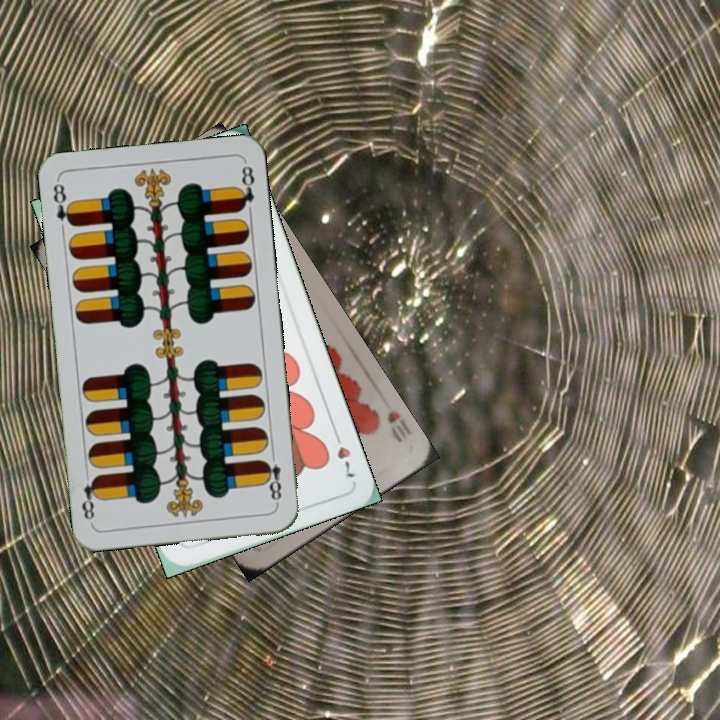E8: (259, 448, 284, 507), (49, 177, 77, 229)
H10: (383, 406, 405, 446)
H7: (329, 426, 359, 481)
